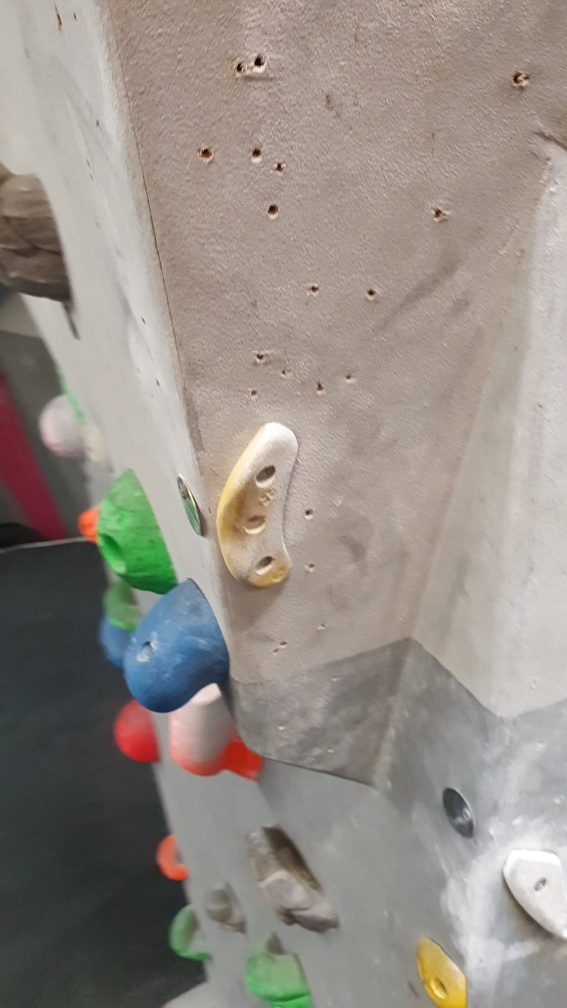Hand Start: (441, 781, 477, 840)
Jug: (243, 815, 343, 940)
